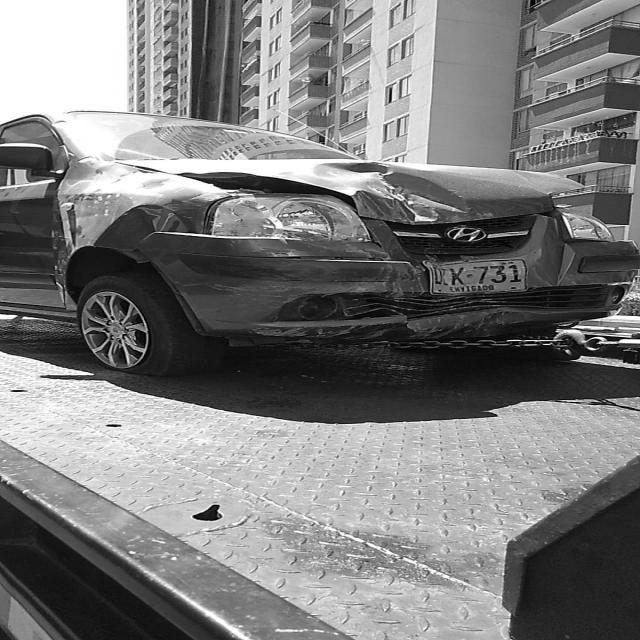plate: (421, 256, 535, 298)
